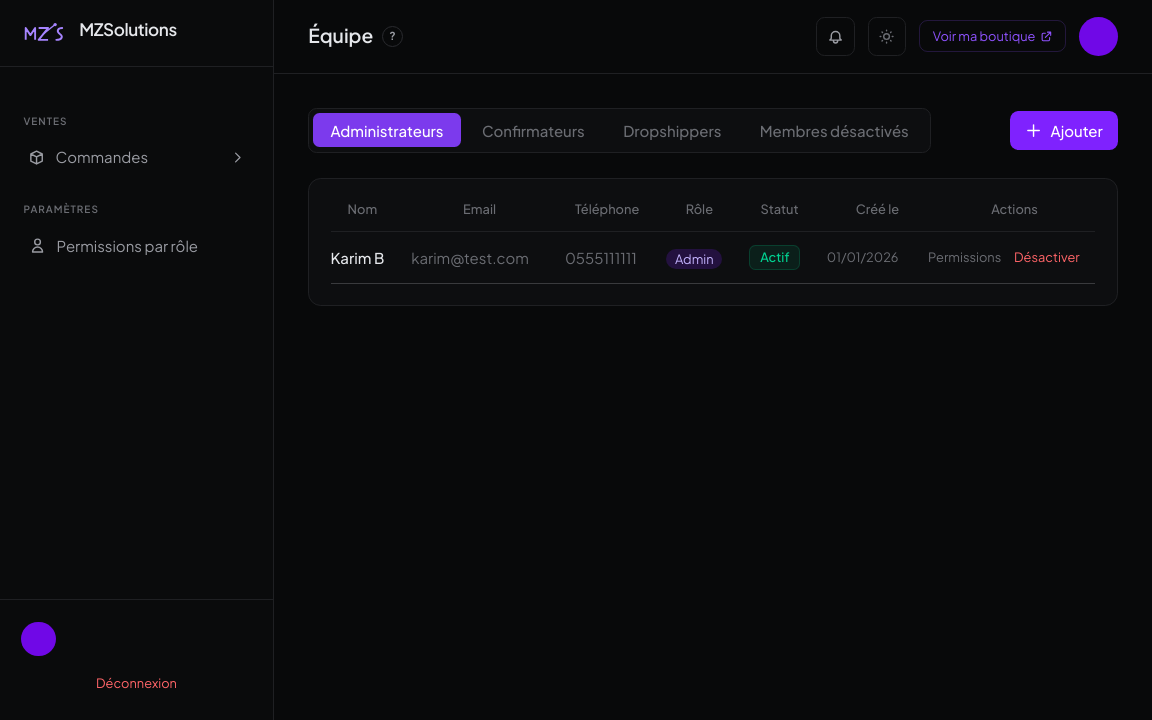
Scenario: TeamPage › shows a server error in the invite modal without crashing
The width and height of the screenshot is (1152, 720).
Expected: the text "Karim B" is shown, [330,231,411,284]
Click the button "Ajouter" at (1064, 130), box [1010,111,1118,150]
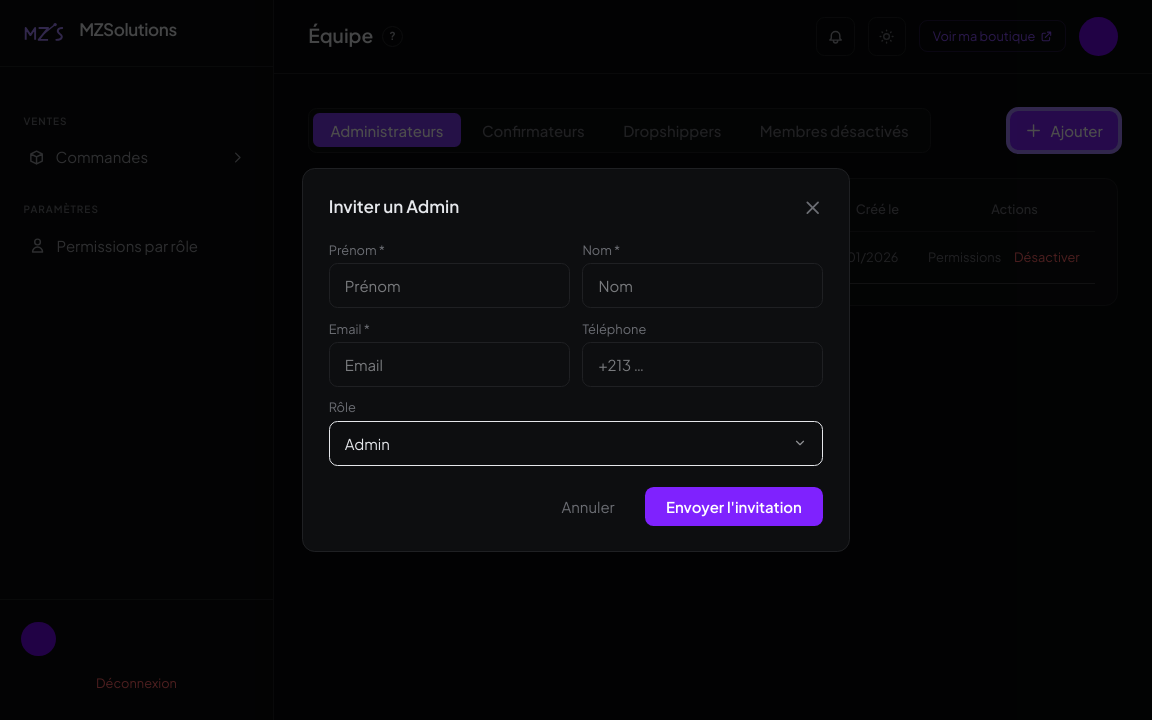
Type "Sara" into the field with placeholder "Prénom" at (449, 285), box [329,263,570,308]
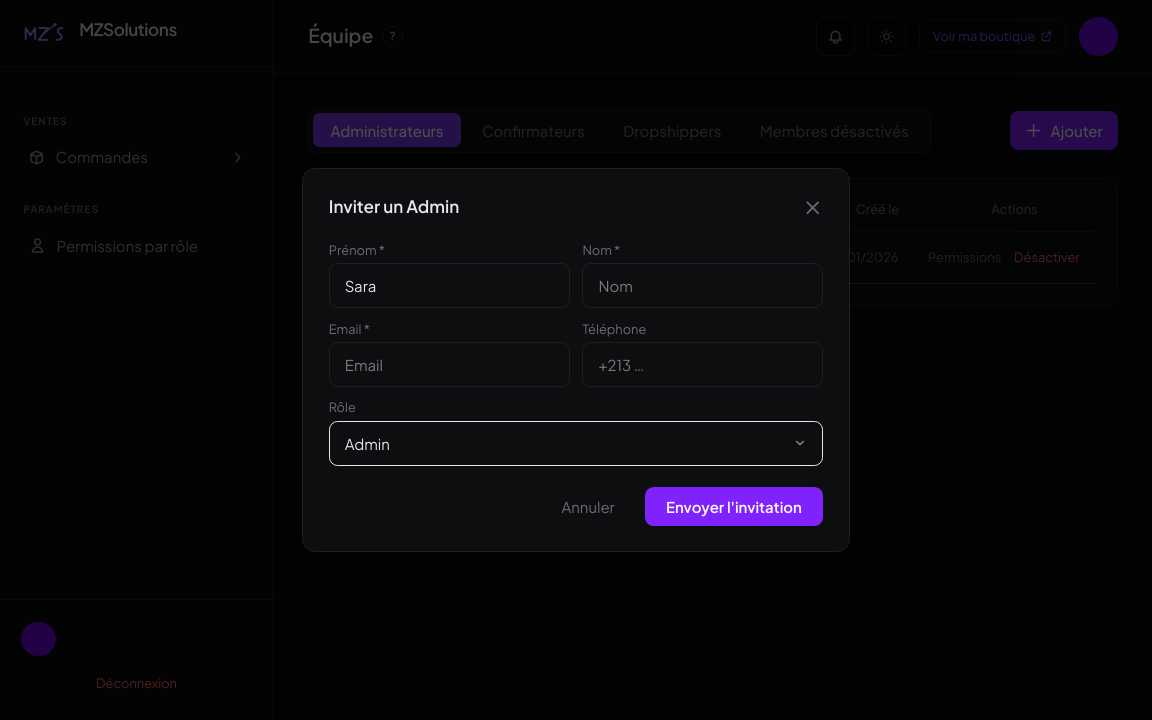
Type "Z" into the field with placeholder "Nom" at (703, 285), box [582,263,823,308]
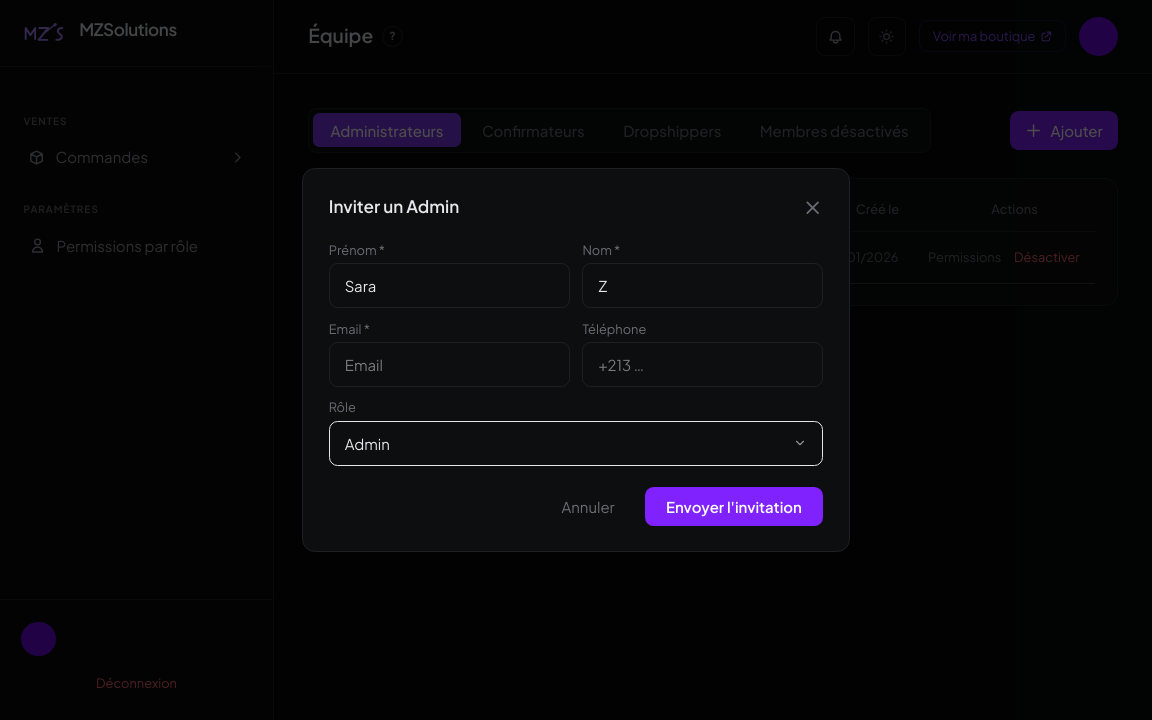
Type "sara@test.com" into the field with placeholder "Email" at (449, 364), box [329,342,570,387]
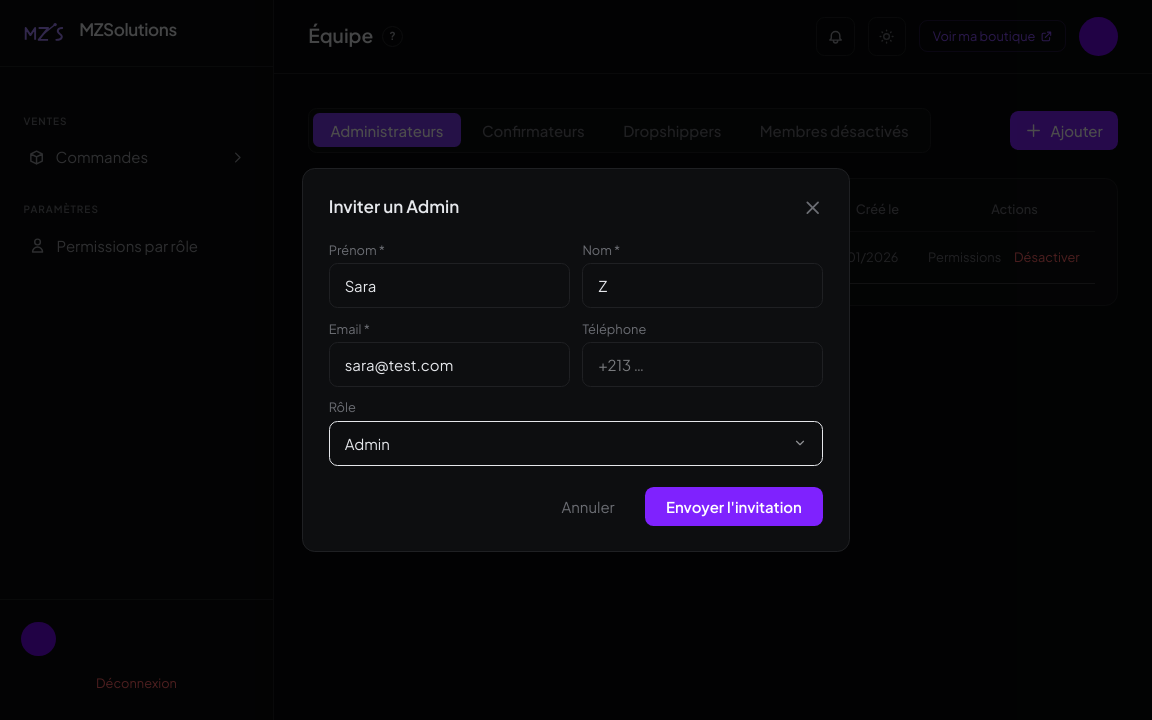
Click the button "Envoyer l'invitation" at (734, 506), box [645,487,823,526]
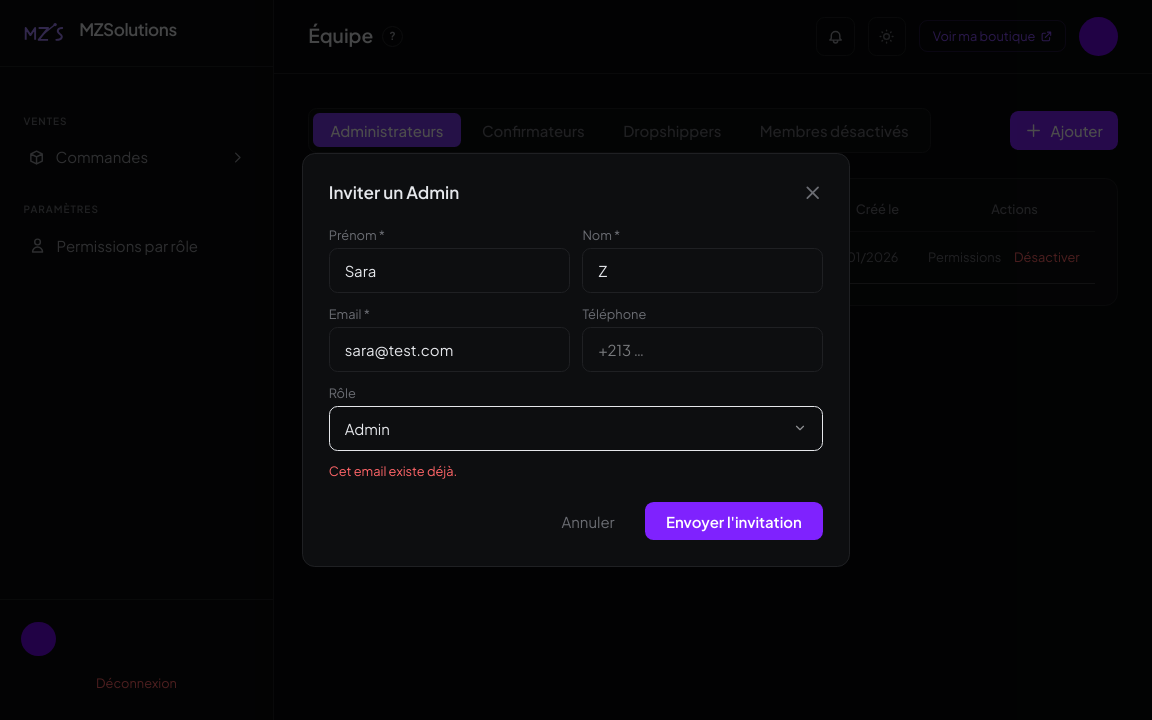
Expected: the text "Cet email existe déjà." is shown, [329,464,457,480]
